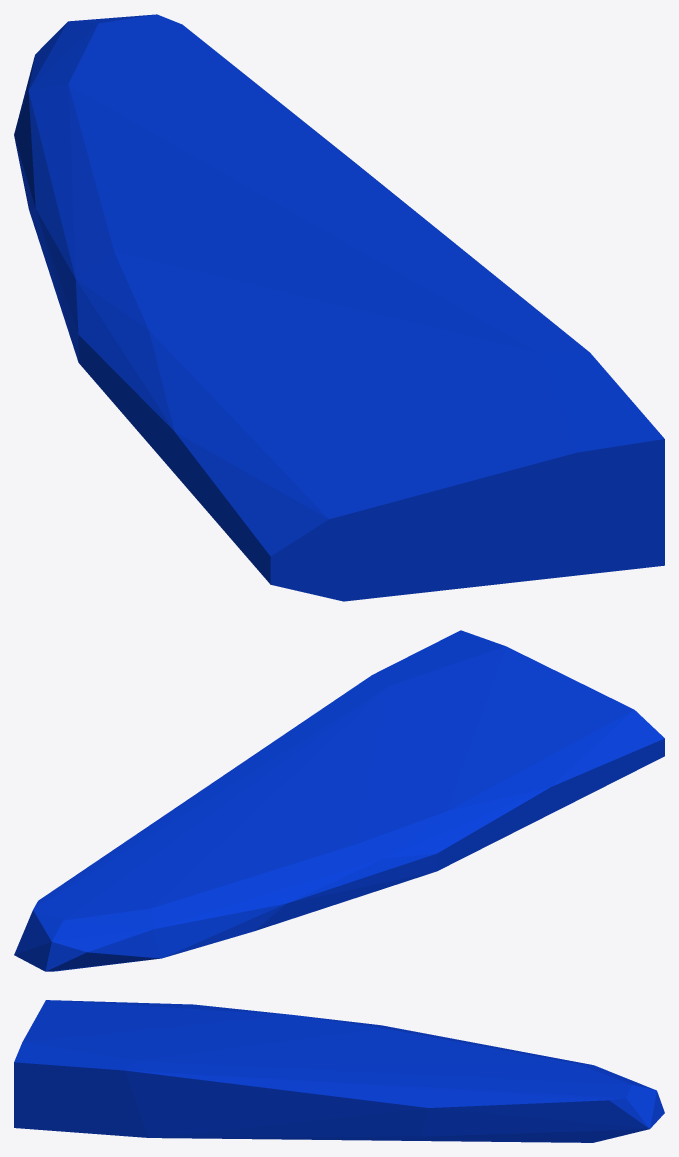
The model's file is model5_convex_piece_005.obj.
3 views of the same model, one above another, from view 1: azimuth 30°, elevation 25°; view 2: azimuth 150°, elevation 25°; view 3: azimuth 270°, elevation 25° (orthographic). The views are drawn at different scales.
Bounding box in the file's own units: 0.0194 × 0.0052 × 0.0467.
